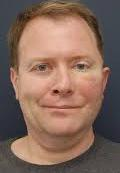strokeEyeWeak: (27, 55, 99, 77)
strokeMouthWeak: (36, 99, 87, 119)
